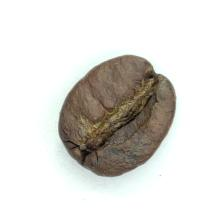NG: (77, 78, 157, 158)
